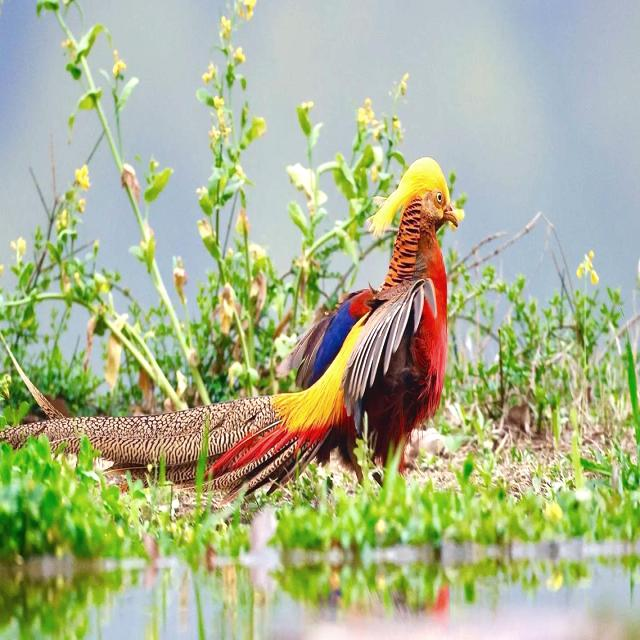Chrysolophus pictus feather: (0, 397, 315, 494)
